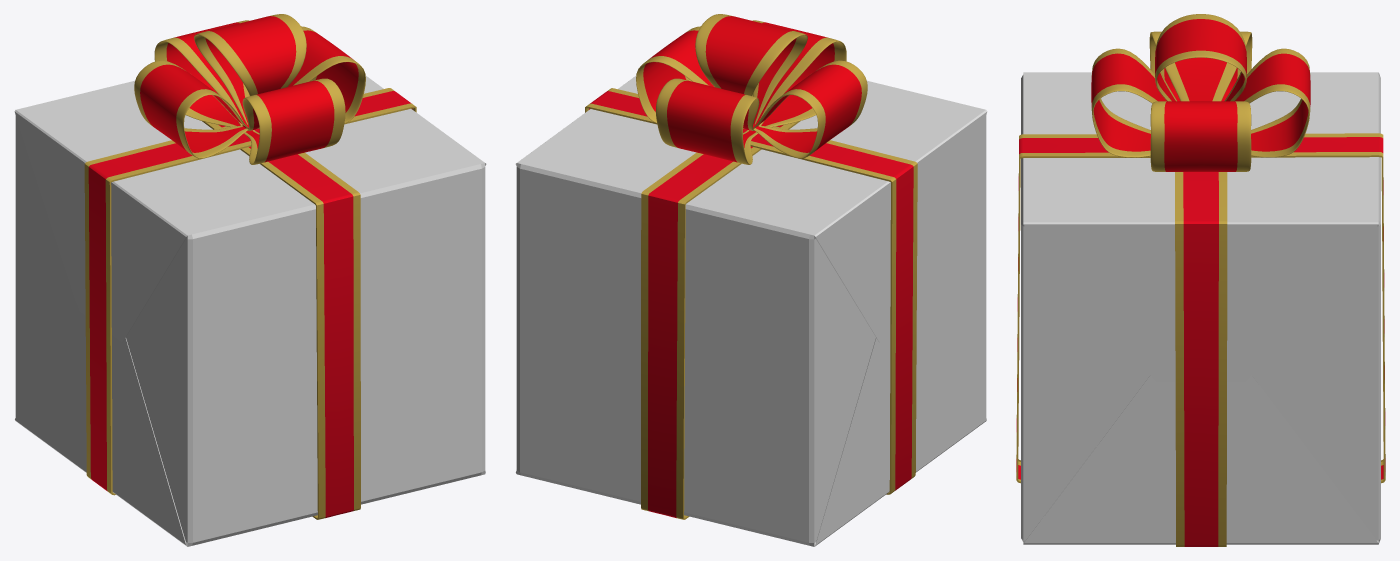
Rendered from gift1.glb.
3 renders of one model, left to right at view 1: azimuth 30°, elevation 25°; view 2: azimuth 150°, elevation 25°; view 3: azimuth 270°, elevation 25°, orthographic. The views are drawn at different scales.
Parts seen in each view (by area): view 1: Box02, Ribbon02, Bow02; view 2: Box02, Ribbon02, Bow02; view 3: Box02, Ribbon02, Bow02.
Part boxes in pixels (x1,y1,x2,y2): Box02: (14, 76, 486, 546); Ribbon02: (84, 88, 416, 519); Bow02: (134, 14, 365, 164); Box02: (515, 76, 987, 546); Ribbon02: (585, 88, 917, 519); Bow02: (636, 14, 867, 164); Box02: (1021, 72, 1380, 544); Ribbon02: (1016, 133, 1385, 546); Bow02: (1091, 14, 1310, 171).
Size of the model in its own units: 0.2001 by 0.2646 by 0.2012.
